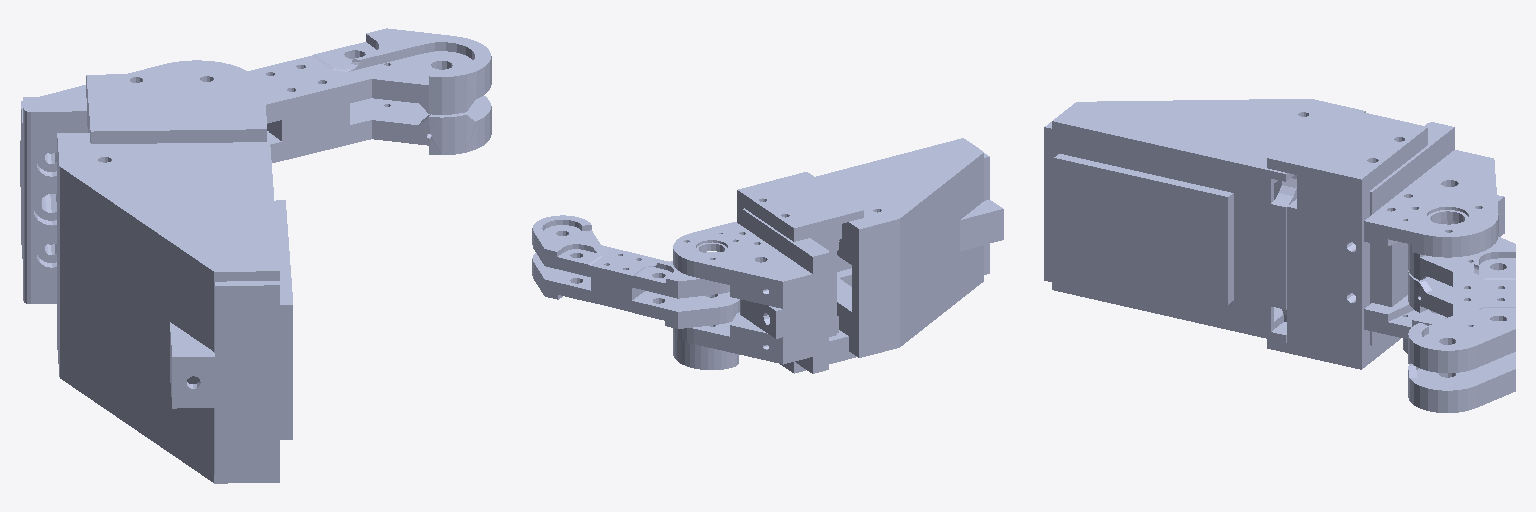
The robot description file, URDF, robot "Simplified_Assem":
<?xml version="1.0" encoding="utf-8"?>
<!-- This URDF was automatically created by SolidWorks to URDF Exporter! Originally created by Stephen Brawner (brawner@gmail.com) 
     Commit Version: 1.5.1-0-g916b5db  Build Version: 1.5.7152.31018
     For more information, please see http://wiki.ros.org/sw_urdf_exporter -->
<robot
  name="Simplified_Assem">
  <link
    name="base_link">
    <inertial>
      <origin
        xyz="0.0498962151813821 -0.0158904369259018 -0.00116762137278734"
        rpy="0 0 0" />
      <mass
        value="0.534242360000798" />
      <inertia
        ixx="0.00283153268058226"
        ixy="-0.000157053033868154"
        ixz="-9.67641870080789E-05"
        iyy="0.00175803446232056"
        iyz="-0.000764892151774405"
        izz="0.00290011379264928" />
    </inertial>
    <visual>
      <origin
        xyz="0 0 0"
        rpy="0 0 0" />
      <geometry>
        <mesh
          filename="package://bionic_hand_description/meshes/visual/base_link.STL" />
      </geometry>
      <material
        name="">
        <color
          rgba="0.792156862745098 0.819607843137255 0.933333333333333 1" />
      </material>
    </visual>
    <collision>
      <origin
        xyz="0 0 0"
        rpy="0 0 0" />
      <geometry>
        <mesh
          filename="package://bionic_hand_description/meshes/visual/base_link.STL" />
      </geometry>
    </collision>
  </link>
  <link
    name="link1">
    <inertial>
      <origin
        xyz="-0.0285034467694217 -0.0867259419775657 -0.00958237862721303"
        rpy="0 0 0" />
      <mass
        value="0.534242360000798" />
      <inertia
        ixx="0.00186716448220367"
        ixy="0.000360426380986313"
        ixz="-0.000719741378483407"
        iyy="0.00272240266069914"
        iyz="0.000276397648022221"
        izz="0.00290011379264929" />
    </inertial>
    <visual>
      <origin
        xyz="0 0 0"
        rpy="0 0 0" />
      <geometry>
        <mesh
          filename="package://bionic_hand_description/meshes/visual/link1.STL" />
      </geometry>
      <material
        name="">
        <color
          rgba="0.792156862745098 0.819607843137255 0.933333333333333 1" />
      </material>
    </visual>
    <collision>
      <origin
        xyz="0 0 0"
        rpy="0 0 0" />
      <geometry>
        <mesh
          filename="package://bionic_hand_description/meshes/visual/link1.STL" />
      </geometry>
    </collision>
  </link>
  <joint
    name="joint1"
    type="revolute">
    <origin
      xyz="-0.04 0 -0.01075"
      rpy="3.1416 0 -2.0633" />
    <parent
      link="base_link" />
    <child
      link="link1" />
    <axis
      xyz="0 0 1" />
    <limit
      lower="0"
      upper="0"
      effort="0"
      velocity="0" />
  </joint>
</robot>

--- What the picture shows (computed from the rendered views, not written in the file) ---
The picture shows the robot from 3 angles, left to right: view 1: azimuth 30°, elevation 25°; view 2: azimuth 150°, elevation 25°; view 3: azimuth 270°, elevation 25°; orthographic projection.
Model Simplified_Assem with 2 links and 1 joints (1 revolute), rooted at base_link, posed all joints at 0.
Links seen in each view (by area): view 1: link1, base_link; view 2: link1, base_link; view 3: link1, base_link.
Boxes of the visible links, left/top/right/bottom form: link1: left=20, top=60, right=292, bottom=483; base_link: left=248, top=28, right=491, bottom=162; link1: left=673, top=138, right=1003, bottom=373; base_link: left=532, top=215, right=739, bottom=328; link1: left=1044, top=99, right=1504, bottom=369; base_link: left=1408, top=237, right=1515, bottom=412.
Bounding box of the posed robot: 0.0881 × 0.0834 × 0.0372 m (x, y, z).
Meshes: 2 distinct files referenced, 2 mesh visuals loaded (2 binary STL).
